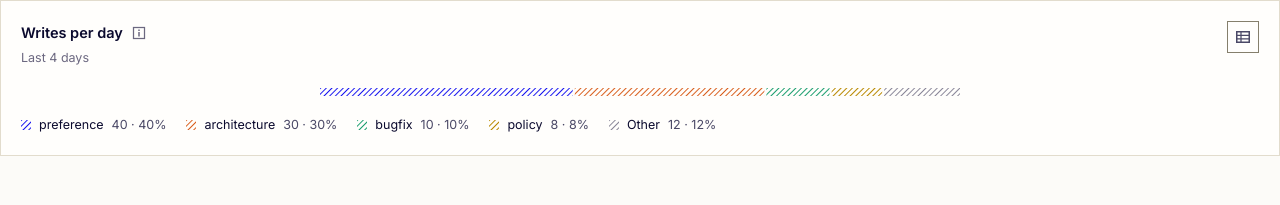
Test: SegmentedBar › folds a sixth part into other and names every part with its share
Focus the picture named "Memory by kind: preference 40 (40%)": (640, 92) [21,88,1259,96]
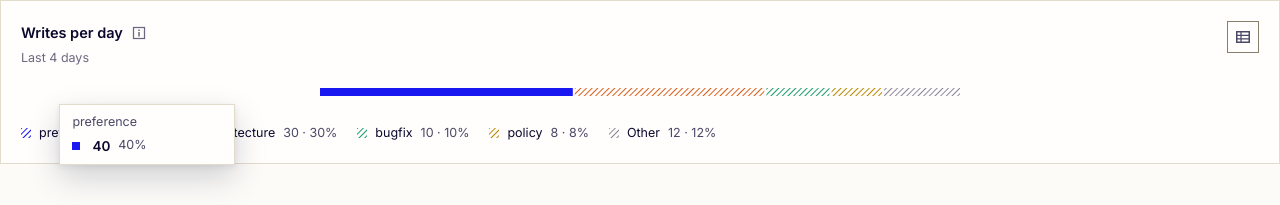
Check: the element with test id "chart-tooltip" shows "preference", box [72,114,137,129]
Press ArrowRight in the picture named "Memory by kind: preference 40 (40%)", box [21,80,1259,112]
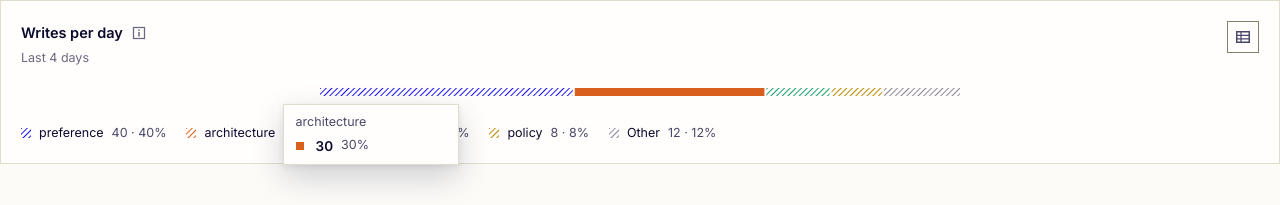
Check: the element with test id "chart-tooltip" shows "architecture", box [296,114,366,129]
